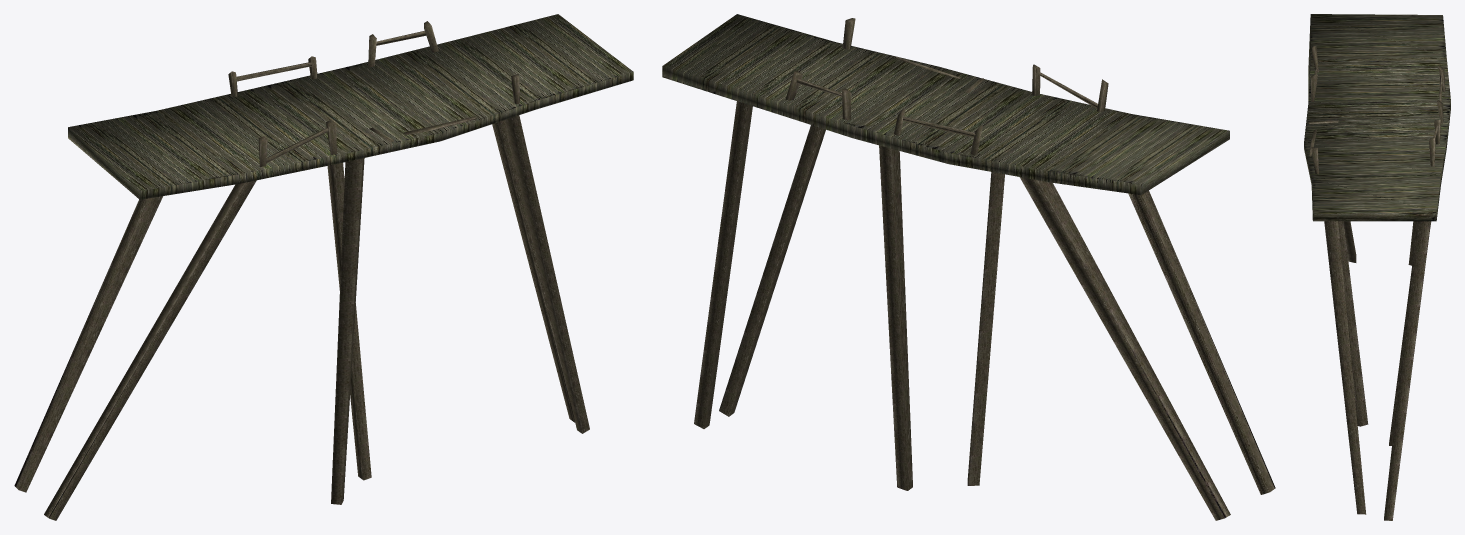
The model's file is MIN_LOB_BRIDGE_30M.glb.
3 views of the same model, side by side, from view 1: azimuth 30°, elevation 25°; view 2: azimuth 150°, elevation 25°; view 3: azimuth 270°, elevation 25° (orthographic). The views are drawn at different scales.
Visible parts, largest first — view 1: Mesh; view 2: Mesh; view 3: Mesh.
Boxes of the visible parts, left/top/right/bottom form: Mesh: left=14, top=14, right=633, bottom=520; Mesh: left=662, top=14, right=1275, bottom=520; Mesh: left=1304, top=14, right=1450, bottom=520.
Bounding box in the file's own units: 25.06 × 17.7 × 6.89.
2 materials, 2 textured.
